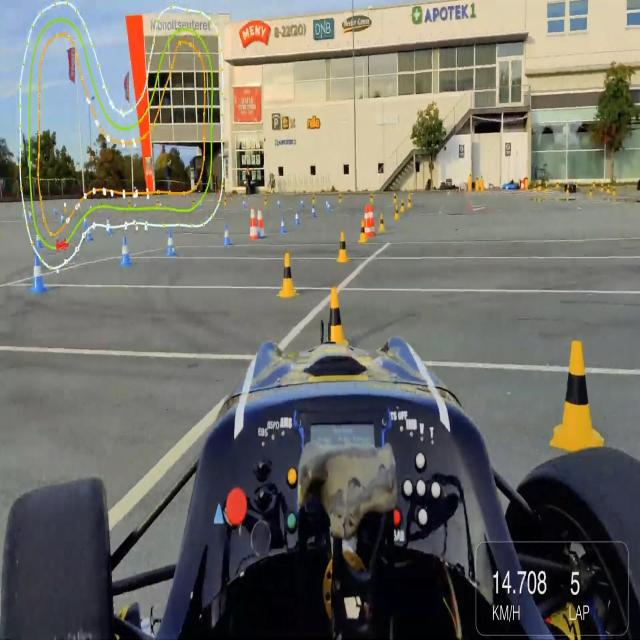blue_cone: (28, 254, 47, 298), (118, 234, 134, 270), (165, 226, 178, 259), (222, 224, 231, 248), (35, 227, 43, 250), (104, 219, 114, 237), (280, 215, 287, 235), (294, 210, 300, 228), (86, 223, 92, 241), (311, 204, 317, 220), (276, 197, 282, 210), (256, 221, 260, 240), (83, 213, 87, 230), (242, 200, 246, 210), (300, 200, 304, 210), (327, 203, 331, 213), (326, 199, 329, 211)
large_orange_cone: (250, 206, 258, 241), (368, 204, 376, 237), (364, 203, 371, 238), (258, 210, 266, 237)
yellow_cone: (544, 328, 606, 456), (326, 286, 350, 351), (276, 250, 297, 302), (336, 230, 350, 266), (358, 220, 368, 245), (378, 212, 386, 234), (394, 203, 400, 221), (400, 198, 406, 214), (407, 194, 412, 208), (223, 195, 228, 207), (264, 195, 268, 208), (312, 192, 316, 204), (393, 192, 397, 204), (338, 193, 342, 203), (370, 193, 374, 203), (607, 184, 611, 194), (612, 186, 616, 196), (601, 182, 604, 192)
